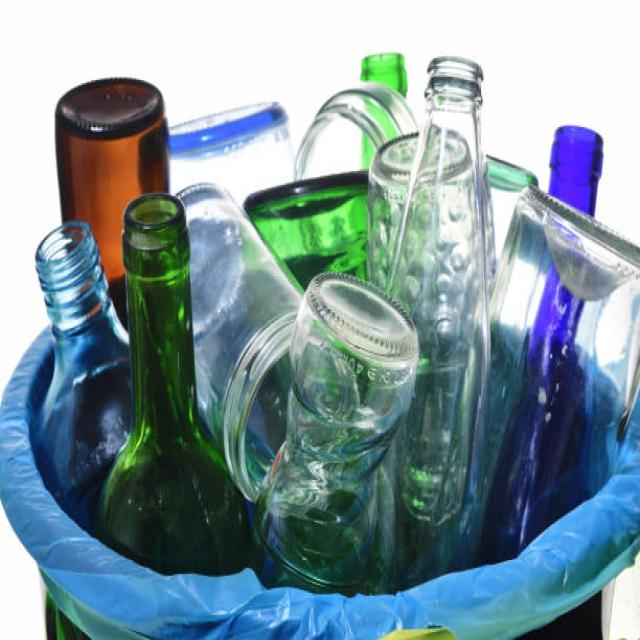glass: (27, 85, 621, 522)
